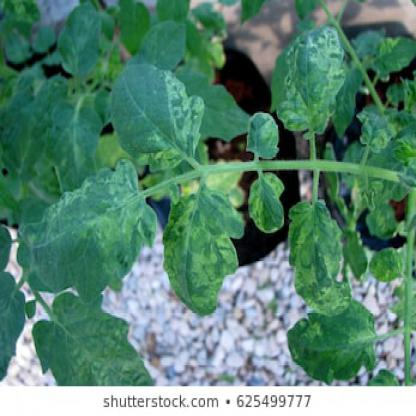tomato leaf mosaic virus: (14, 163, 156, 303), (107, 55, 205, 177), (159, 184, 246, 316), (265, 18, 345, 150), (287, 296, 378, 380), (288, 201, 355, 313), (246, 172, 285, 242), (242, 111, 278, 163)
